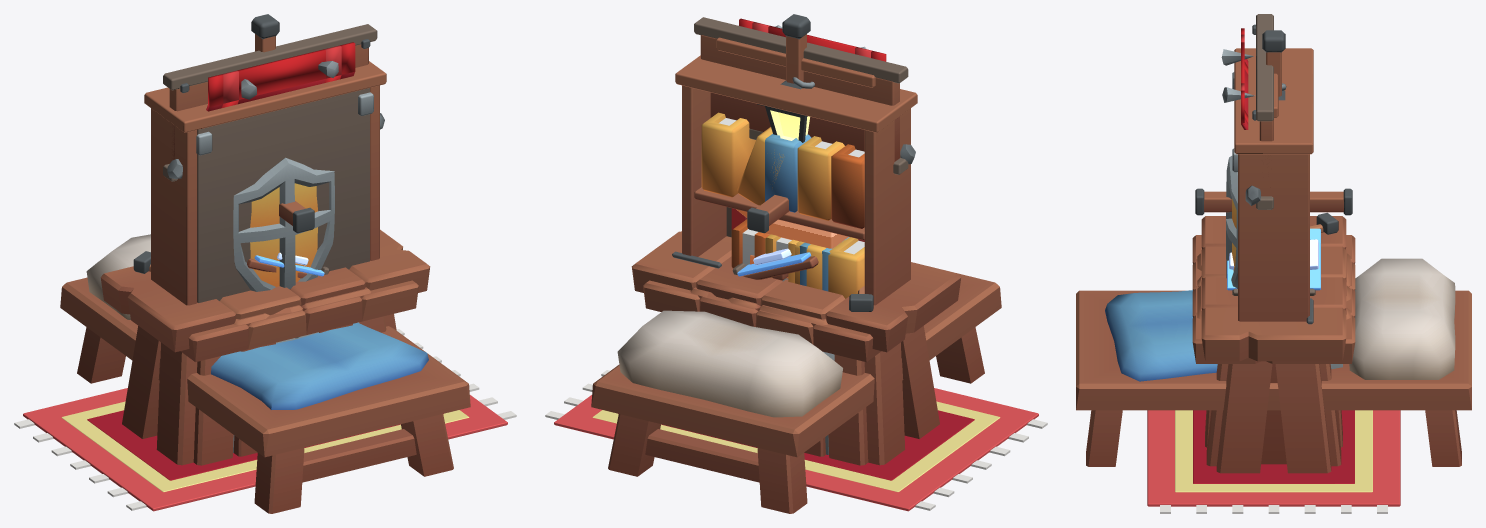
The model's file is furniture.glb.
The picture shows the model from 3 angles, left to right: view 1: azimuth 30°, elevation 25°; view 2: azimuth 150°, elevation 25°; view 3: azimuth 270°, elevation 25°; orthographic projection. The views are drawn at different scales.
Parts seen in each view (by area): view 1: Bed, Bookshelf, Workbench, Banner, Rug, Table, WeaponMount, TrinketTable, Lectern, ArmourStand; view 2: Bed, Bookshelf, Workbench, Rug, WeaponMount, Table, Banner, Lectern, Lantern, ArmourStand, TrinketTable; view 3: Bed, Workbench, Bookshelf, Rug, Table, Banner, WeaponMount, ArmourStand, Lectern, TrinketTable.
Boxes of the visible parts, x1,y1,x2,y2 form: Bed: (60, 234, 470, 513); Bookshelf: (144, 61, 386, 305); Workbench: (100, 229, 430, 465); Banner: (167, 14, 384, 291); Rug: (14, 329, 516, 511); Table: (180, 280, 418, 465); WeaponMount: (163, 24, 377, 181); TrinketTable: (233, 287, 371, 456); Lectern: (247, 252, 329, 278); ArmourStand: (279, 201, 314, 233); Bed: (591, 273, 1001, 513); Bookshelf: (675, 55, 917, 305); Workbench: (631, 209, 961, 465); Rug: (545, 370, 1047, 511); WeaponMount: (694, 17, 908, 174); Table: (643, 280, 881, 465); Banner: (716, 14, 915, 241); Lectern: (732, 248, 818, 279); Lantern: (757, 77, 814, 142); ArmourStand: (747, 195, 789, 280); TrinketTable: (690, 287, 827, 456); Bed: (1076, 258, 1471, 466); Workbench: (1201, 212, 1346, 473); Bookshelf: (1234, 48, 1313, 464); Rug: (1147, 410, 1400, 513); Table: (1192, 235, 1355, 466); Banner: (1221, 28, 1285, 288); WeaponMount: (1232, 14, 1273, 209); ArmourStand: (1195, 188, 1352, 215); Lectern: (1227, 228, 1320, 295); TrinketTable: (1197, 253, 1350, 447).
Size of the model in its own units: 2.38 by 2.38 by 2.19.
Materials: 4 (4 with a texture image).
